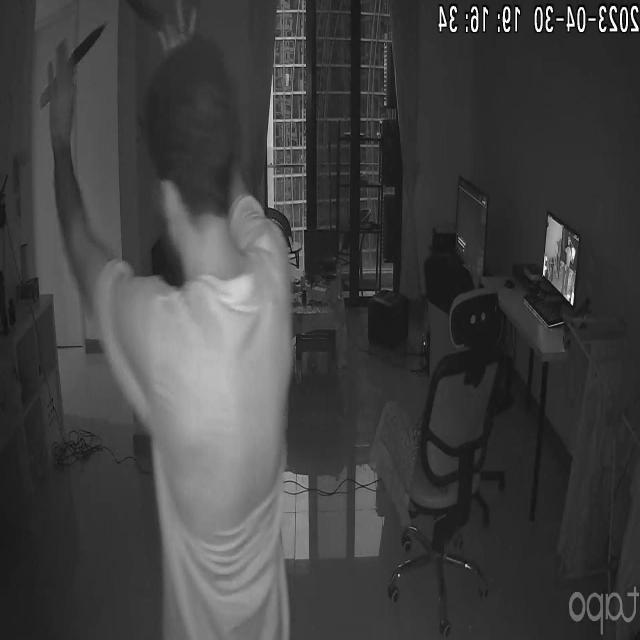Knife: (31, 14, 108, 104)
